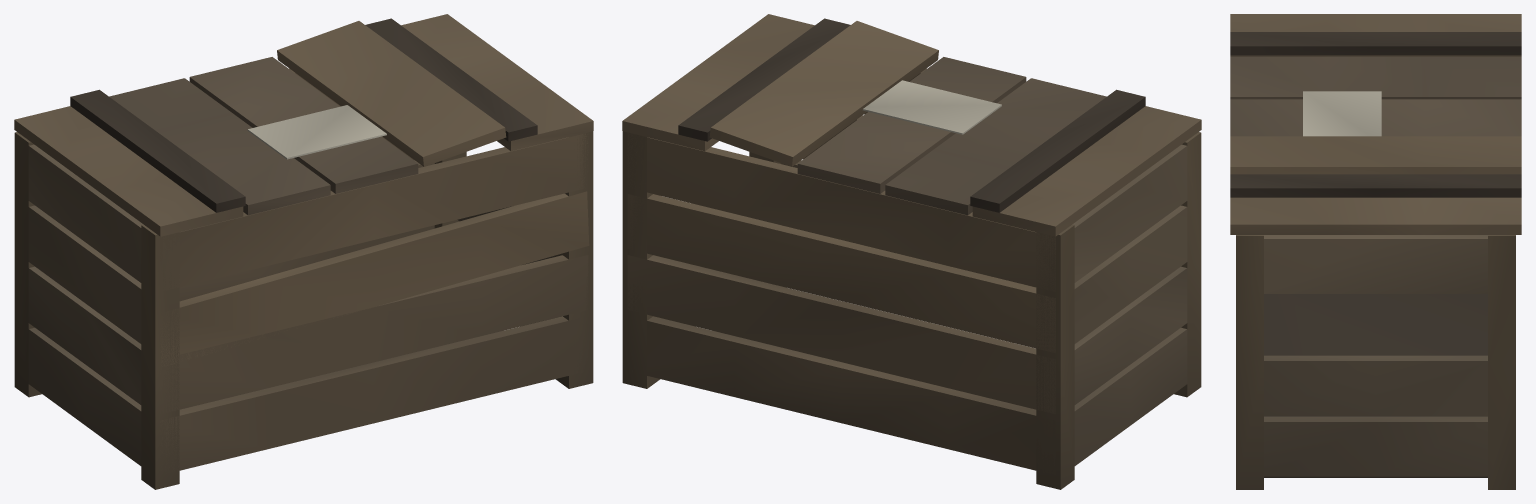
Rendered from m01_prop_supply_crate_planked_lod0.glb.
3 views of the same model, side by side, from view 1: azimuth 30°, elevation 25°; view 2: azimuth 150°, elevation 25°; view 3: azimuth 270°, elevation 25° (orthographic).
Parts seen in each view (by area): view 1: supply_crate_planked; view 2: supply_crate_planked; view 3: supply_crate_planked.
Part boxes in pixels (box(x1,y1,x2,y2)): supply_crate_planked: box(14, 14, 593, 489); supply_crate_planked: box(622, 14, 1201, 489); supply_crate_planked: box(1230, 14, 1521, 489).
Size of the model in its own units: 0.9 by 0.5493 by 0.52.
